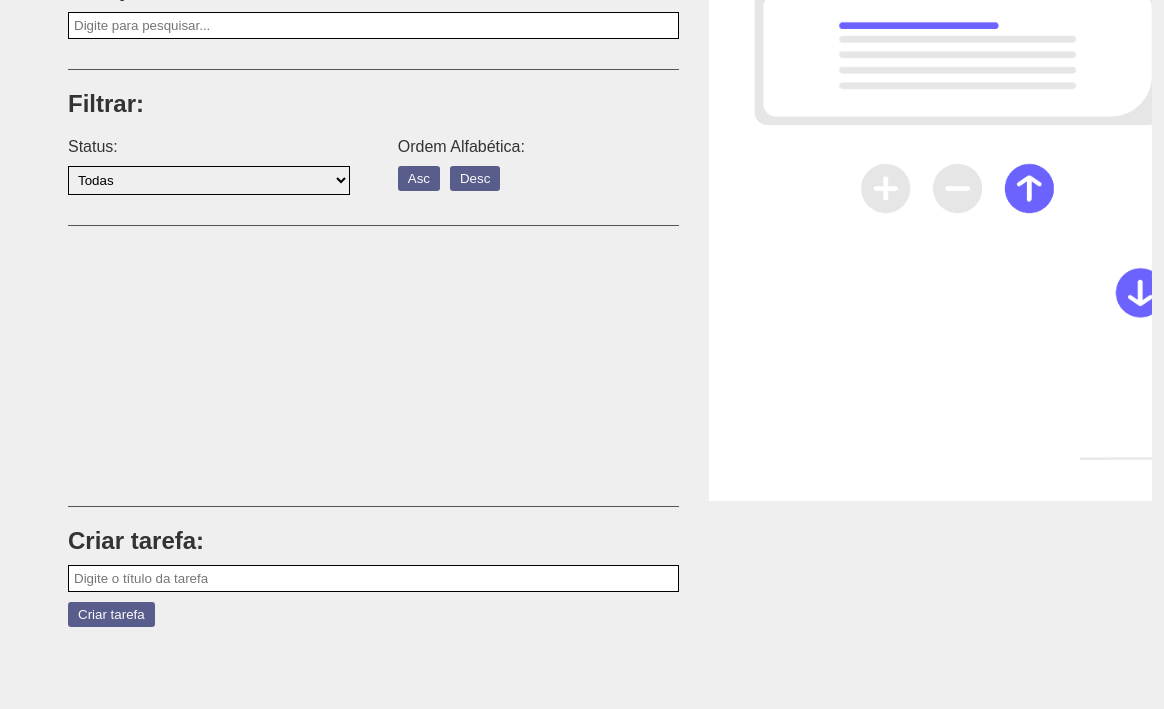
Test case: App Component Tests › should add a new todo
(page scrolled)
// Adiciona uma nova tarefa
Type "Novo Todo" into the field with placeholder "Digite o título da tarefa" at [374, 578], box [68,565,680,592]
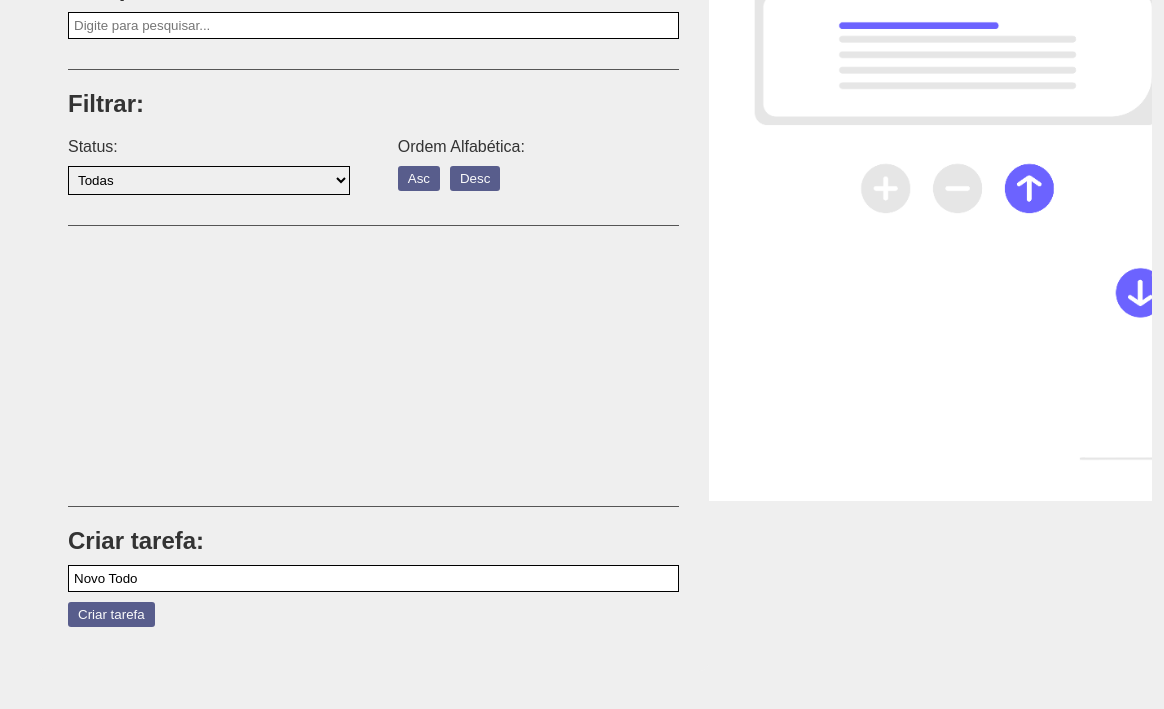
Click the button "Criar tarefa" at [111, 614], box [68,602,155,627]
(page scrolled)
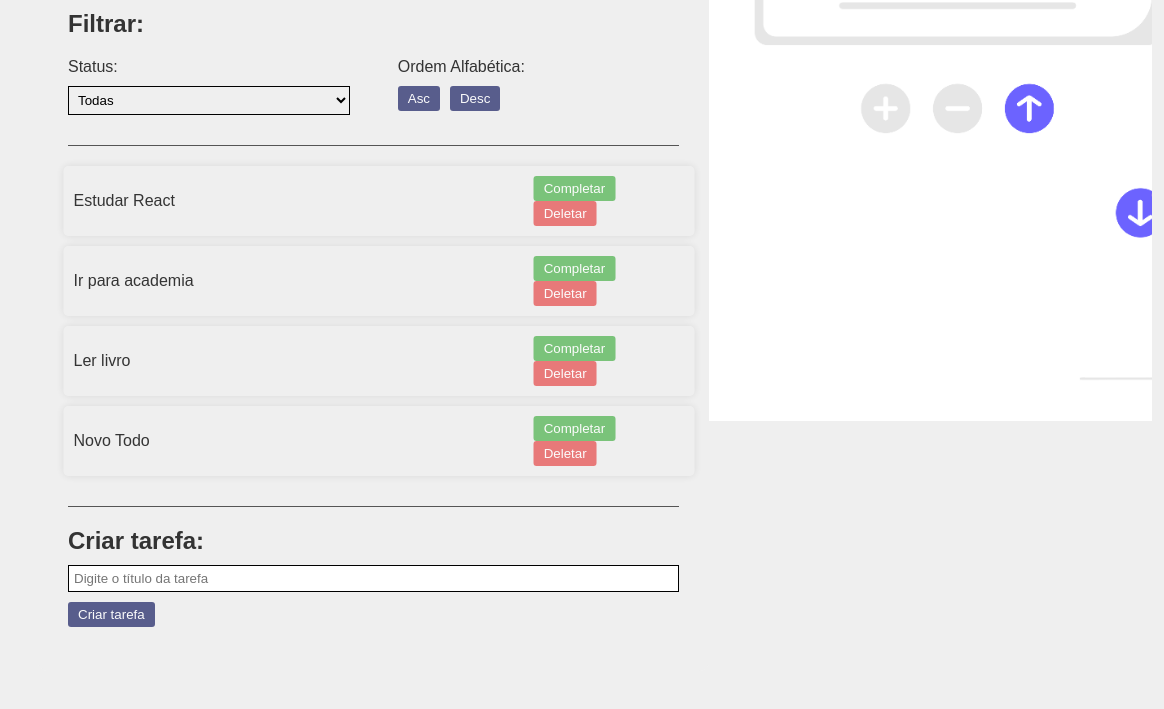
Check: the text "Novo Todo" is shown, box [74,432,150,449]
